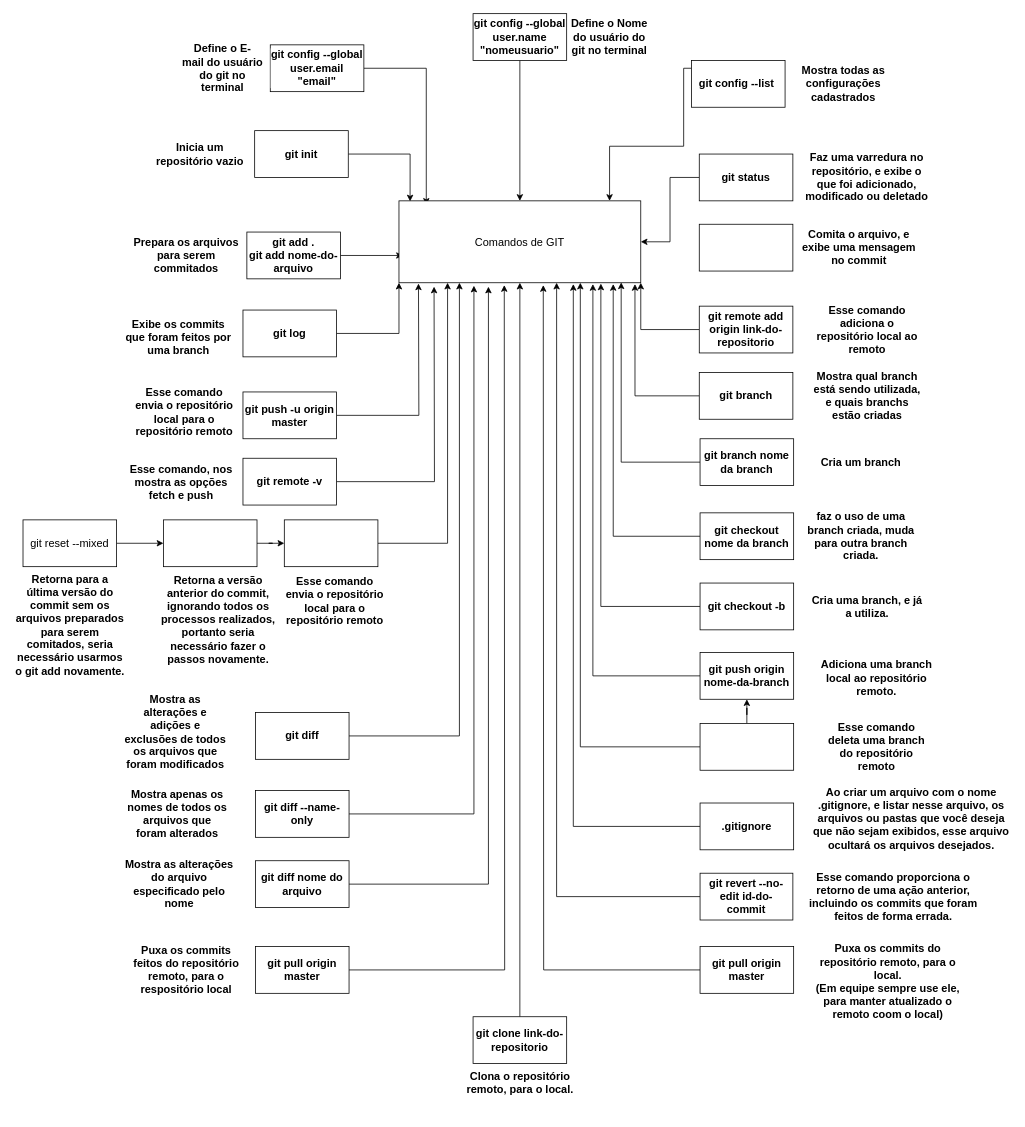
Image size: 1025x1127. Some labels were removed from this diagram. Each missing label, with the centre of its shape:
git commit -m "mensagem": [745,247]
git push origin: nome-da-branch: [746,746]
git reset --hard: [210,543]
git reset --soft: [331,543]
